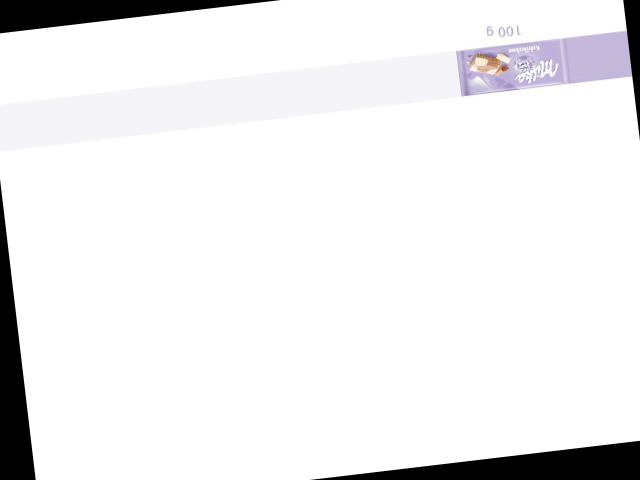chocolate: (455, 35, 570, 96)
